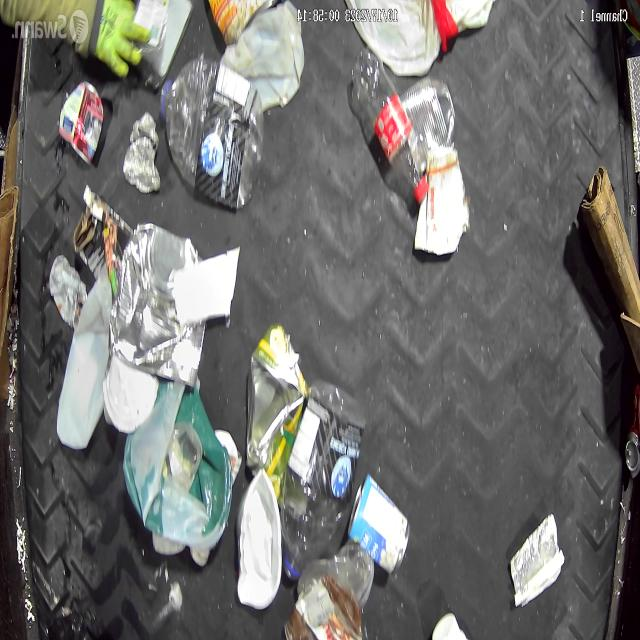can: (349, 474, 410, 575), (400, 80, 456, 174), (58, 82, 104, 162), (624, 384, 640, 477)
milk_jug: (57, 274, 112, 451), (220, 2, 304, 111), (348, 1, 441, 76)
plastic_bottle: (280, 378, 366, 581), (159, 54, 264, 209), (350, 46, 428, 202)
